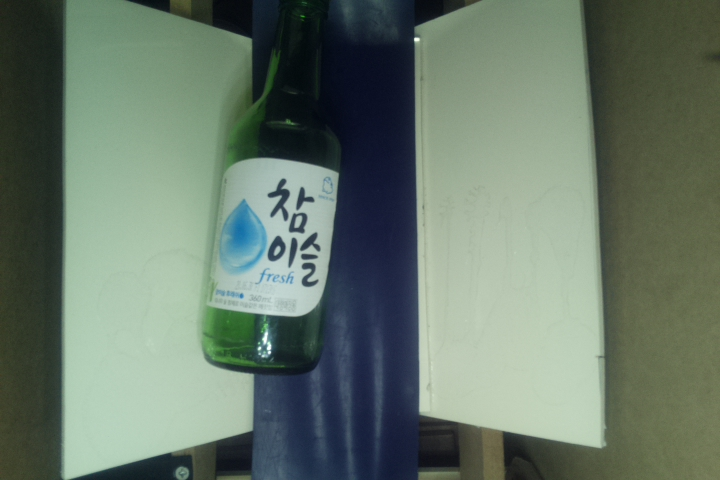soju: (202, 1, 339, 378)
